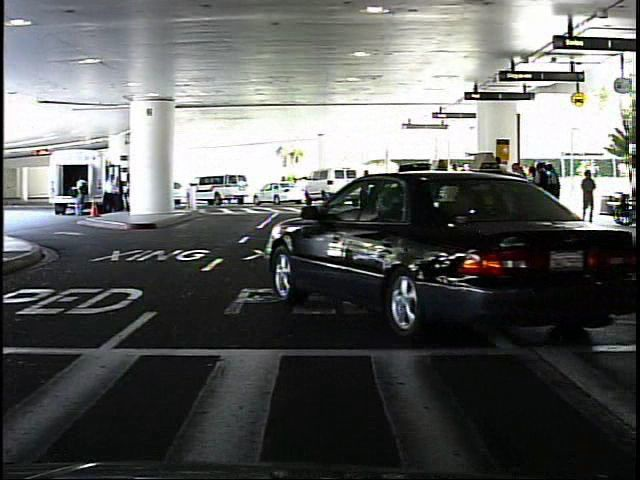person: (356, 165, 380, 220), (580, 167, 599, 214)
